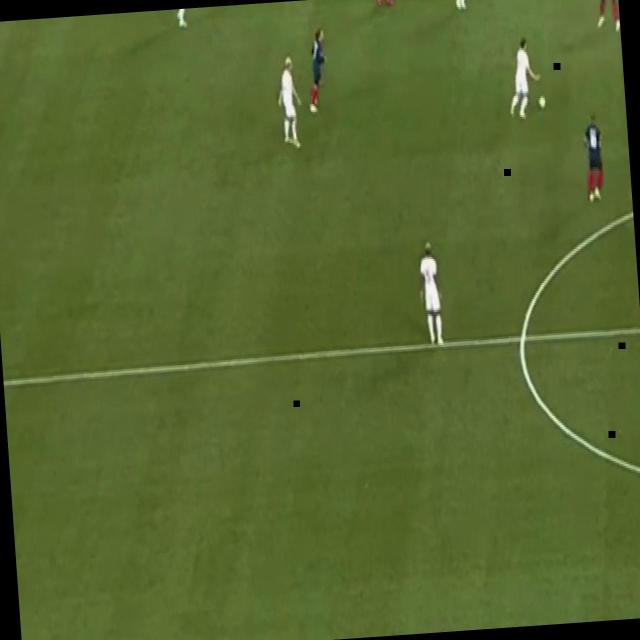ball: (537, 94, 547, 110)
player-white: (503, 36, 544, 124), (415, 242, 447, 348), (273, 54, 305, 156), (303, 28, 333, 118), (580, 114, 606, 202), (588, 0, 620, 36), (174, 8, 196, 29), (454, 0, 478, 13), (375, 0, 401, 8)
